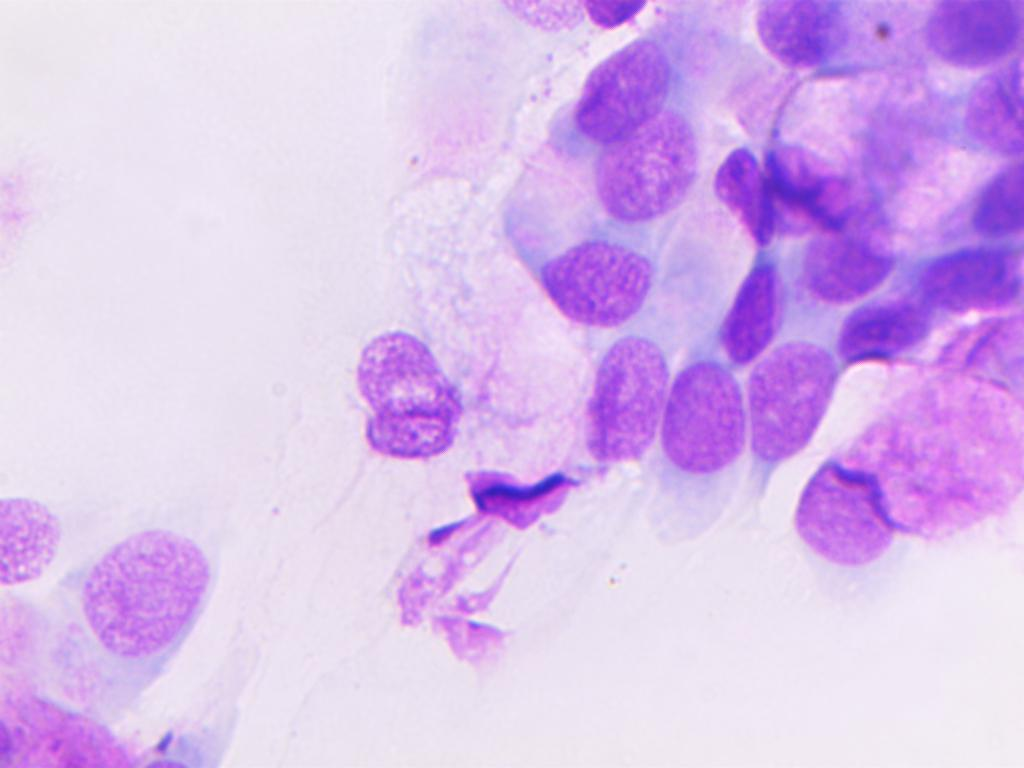artifact: (376, 517, 509, 666)
epithelial: (66, 524, 237, 667), (343, 316, 466, 462), (524, 230, 668, 336), (586, 341, 666, 531), (664, 355, 744, 545), (586, 105, 709, 225), (567, 36, 676, 158), (748, 337, 837, 458), (947, 49, 1024, 173)
goblet_cell: (446, 244, 595, 558), (785, 377, 972, 581), (751, 20, 922, 242)
metaplastic: (831, 287, 943, 366), (913, 0, 1024, 76), (920, 238, 1024, 318), (722, 256, 797, 363), (0, 484, 69, 590), (708, 134, 768, 252), (941, 170, 1024, 241)
